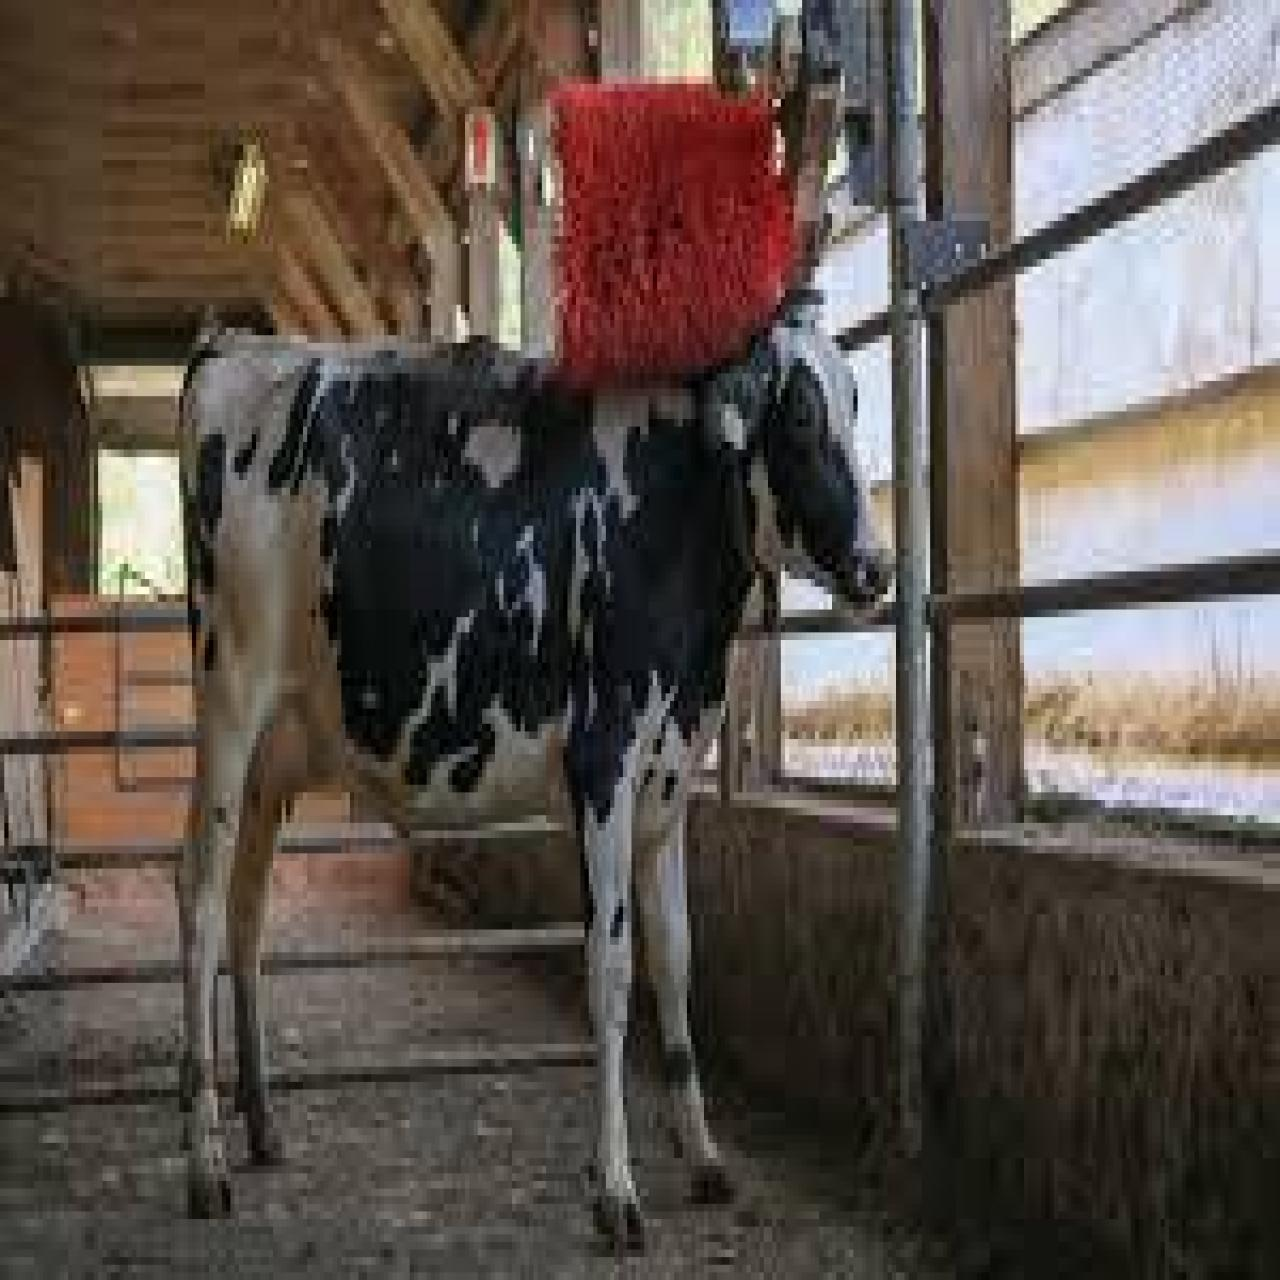cow: (171, 293, 900, 1253)
